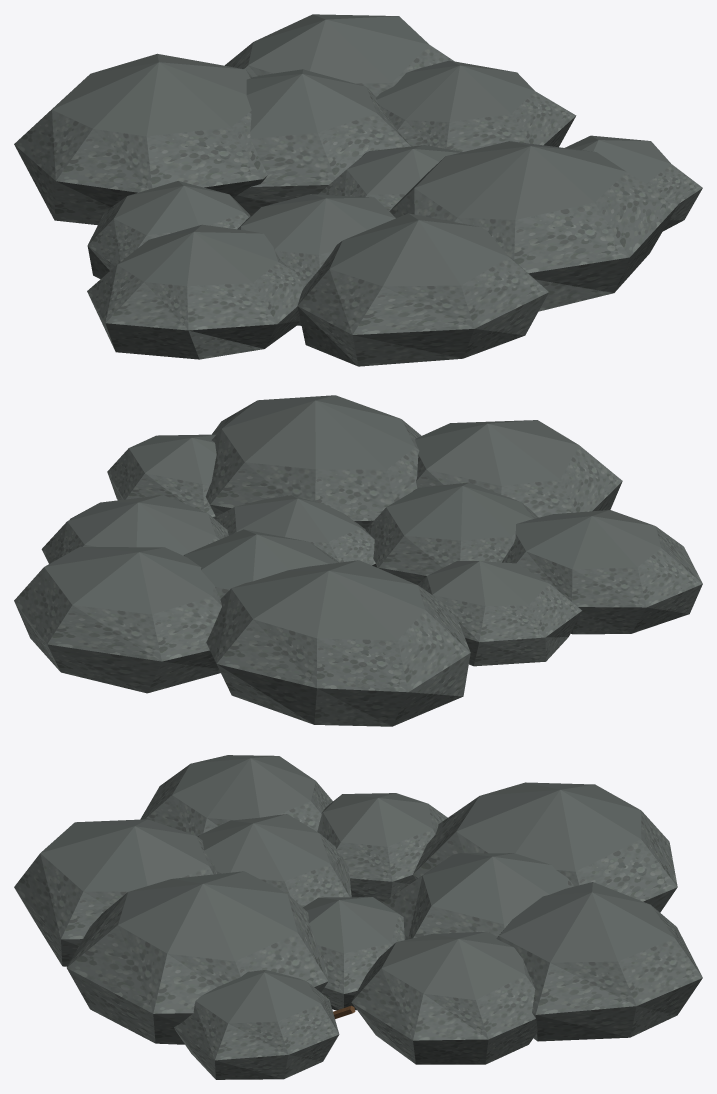
The model's file is pr-010_stone_pile__large.obj.
The picture shows the model from 3 angles, top to bottom: view 1: azimuth 30°, elevation 25°; view 2: azimuth 150°, elevation 25°; view 3: azimuth 270°, elevation 25°; orthographic projection. The views are drawn at different scales.
Parts seen in each view (by area): view 1: pr-010_stone_pile__large; view 2: pr-010_stone_pile__large; view 3: pr-010_stone_pile__large.
Boxes of the visible parts, left/top/right/bottom form: pr-010_stone_pile__large: left=14, top=14, right=702, bottom=366; pr-010_stone_pile__large: left=14, top=395, right=702, bottom=726; pr-010_stone_pile__large: left=14, top=755, right=702, bottom=1079.
Bounding box in the file's own units: 1.14 × 0.3198 × 1.15.
Materials: 4 (4 with a texture image).
